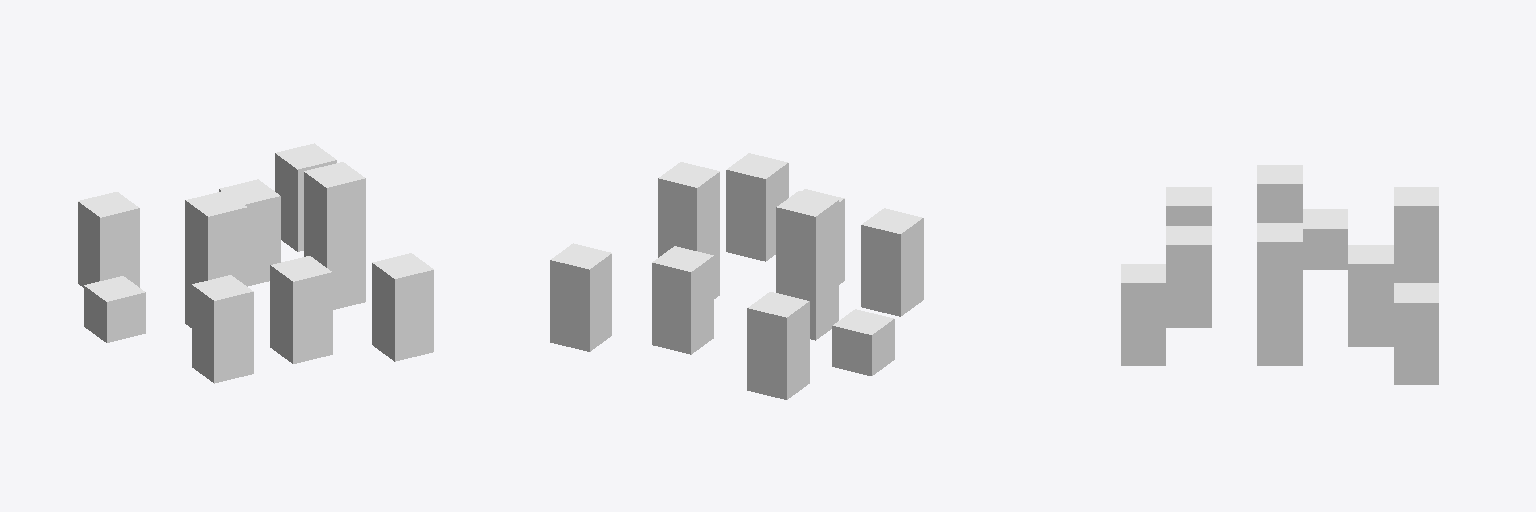
The model's file is blooming_blue.obj.
The picture shows the model from 3 angles: view 1: azimuth 30°, elevation 25°; view 2: azimuth 150°, elevation 25°; view 3: azimuth 270°, elevation 25°; orthographic projection.
Parts seen in each view (by area): view 1: object 1; view 2: object 1; view 3: object 1.
Boxes of the visible parts, <box> form: object 1: <box>78,143,433,383</box>; object 1: <box>550,153,923,399</box>; object 1: <box>1121,165,1438,384</box>.
Bounding box in the file's own units: 0.7 × 0.3 × 0.7.